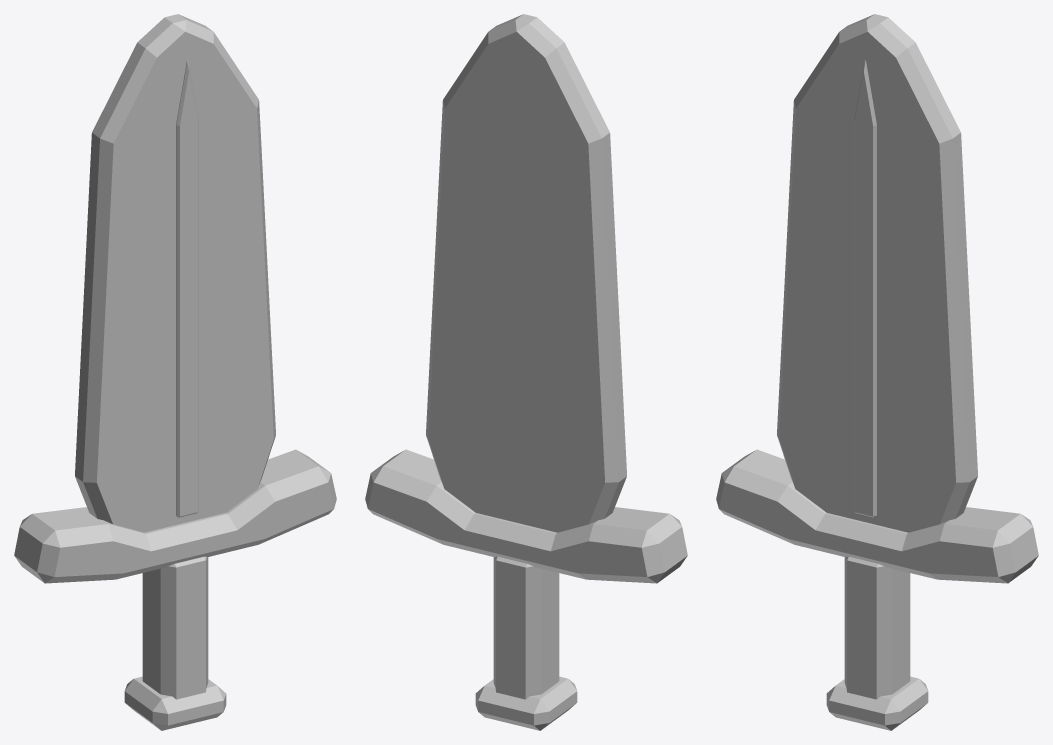
File: BE_PowerMesh_Sword.fbx
3 views of the same model, side by side, from view 1: azimuth 30°, elevation 25°; view 2: azimuth 150°, elevation 25°; view 3: azimuth 330°, elevation 25° (orthographic).
Parts seen in each view (by area): view 1: BE_PowerMesh_Sword; view 2: BE_PowerMesh_Sword; view 3: BE_PowerMesh_Sword.
Boxes of the visible parts, x1,y1,x2,y2 form: BE_PowerMesh_Sword: (14, 14, 336, 730); BE_PowerMesh_Sword: (365, 14, 687, 730); BE_PowerMesh_Sword: (716, 14, 1038, 730).
Size of the model in its own units: 179 by 398 by 42.5.
Materials: 1 (1 with a texture image).
